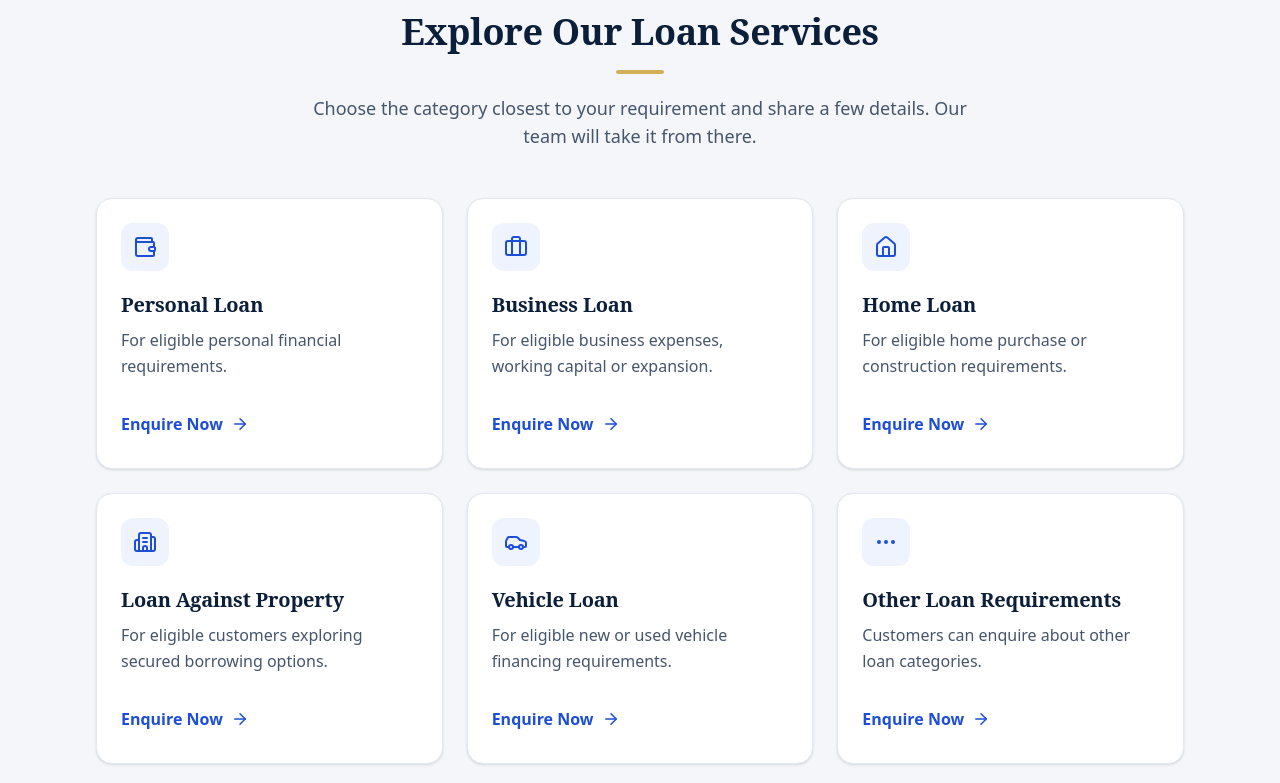
it: Loan category -> form preselection › 'Enquire Now' on Home Loan preselects the loan type and scrolls to the form
(page scrolled)
Step 1. Click the button "Enquire Now" below "Home Loan" → point(926, 424), box [862,404,990,444]
(page scrolled)
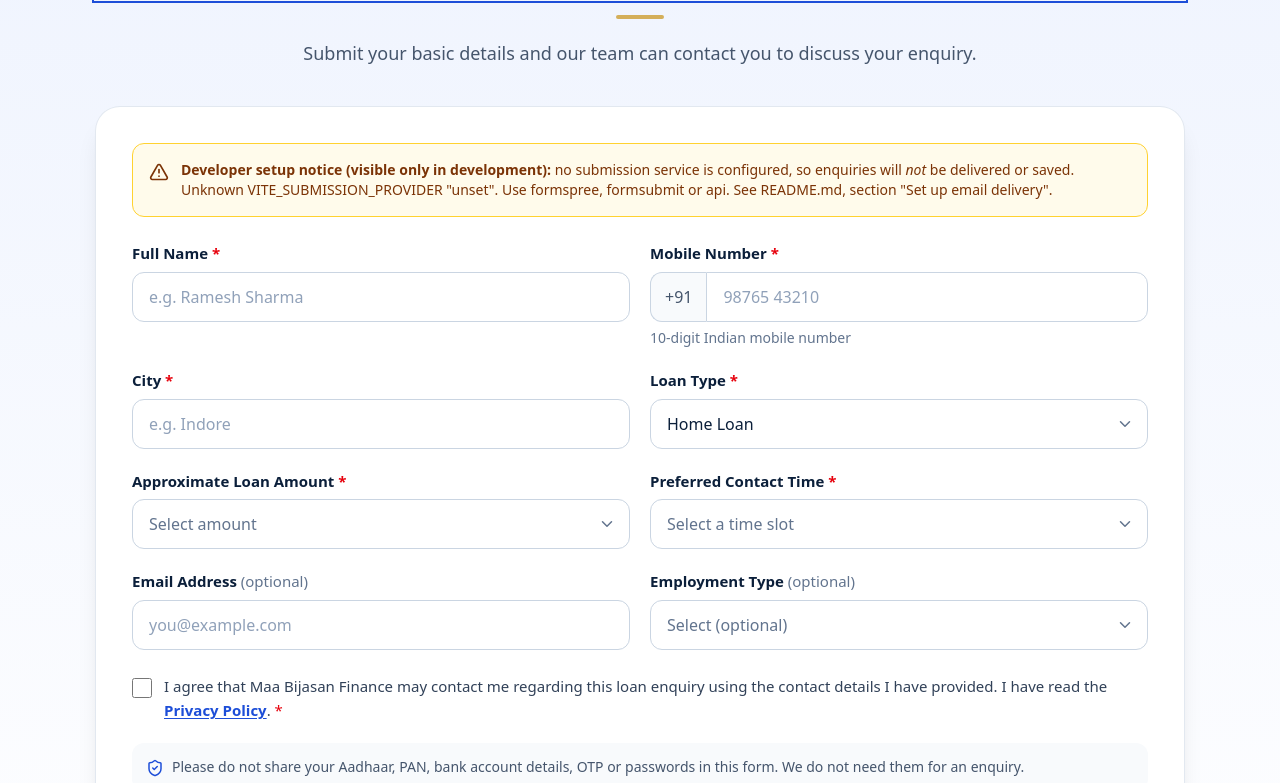
Expected: the dropdown labelled "Loan Type *" shows "Home Loan", [650,398,1148,448]
